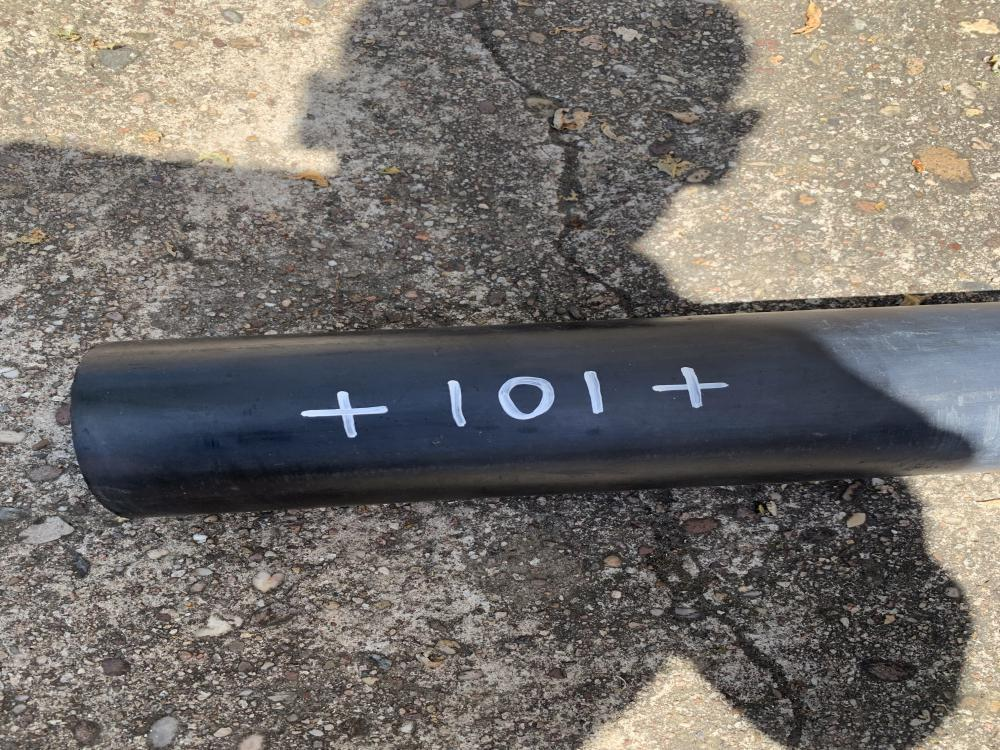+: (302, 390, 388, 438), (654, 367, 730, 408)
0: (498, 376, 554, 420)
1: (448, 380, 468, 428), (584, 371, 606, 414)
